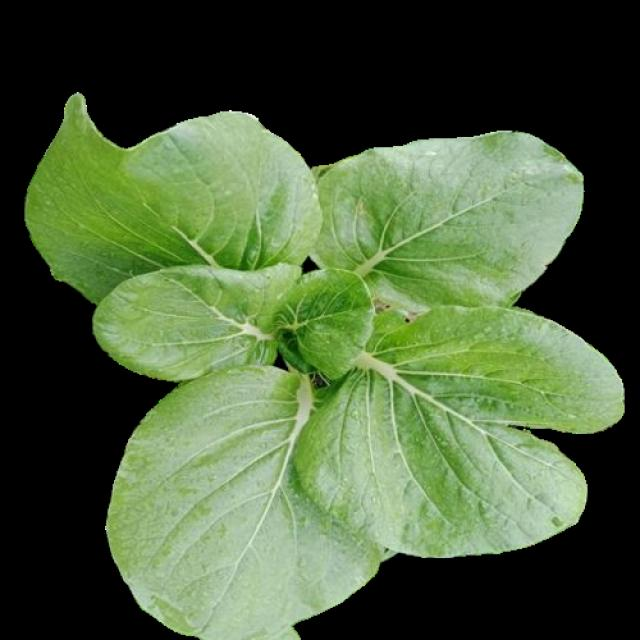healthy: (26, 106, 620, 631)
mature: (25, 93, 620, 640)
